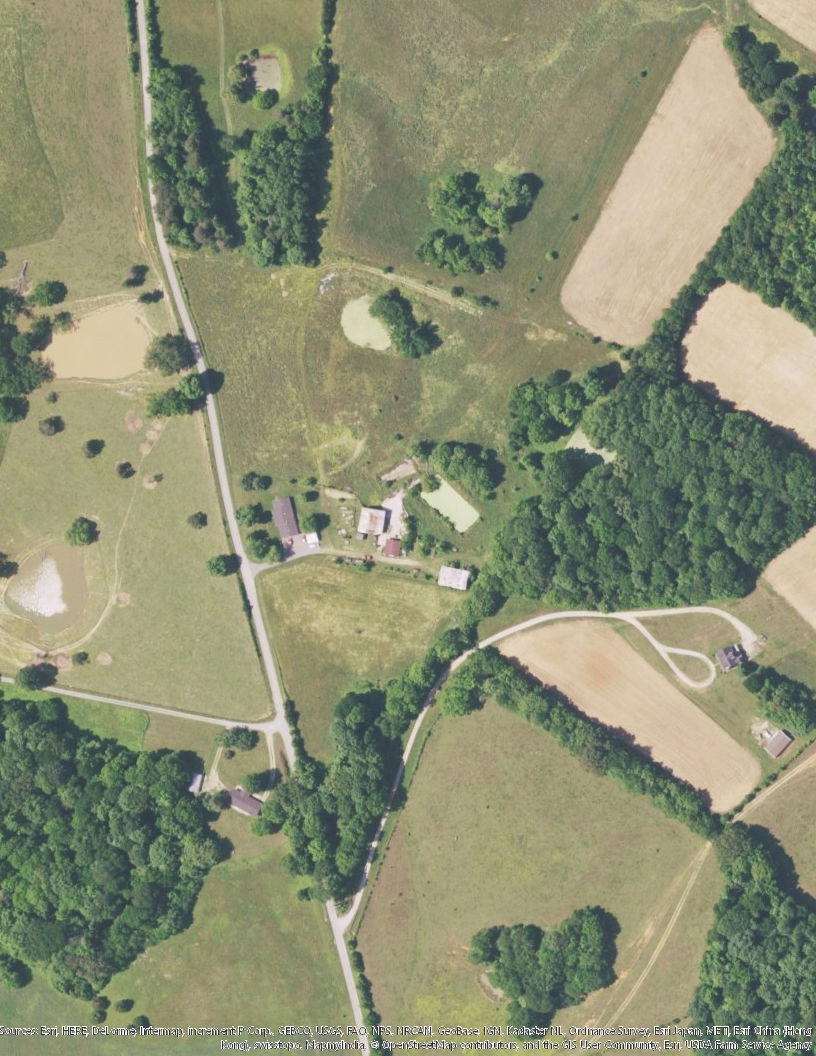cafo: (357, 503, 389, 537), (438, 562, 472, 593)
